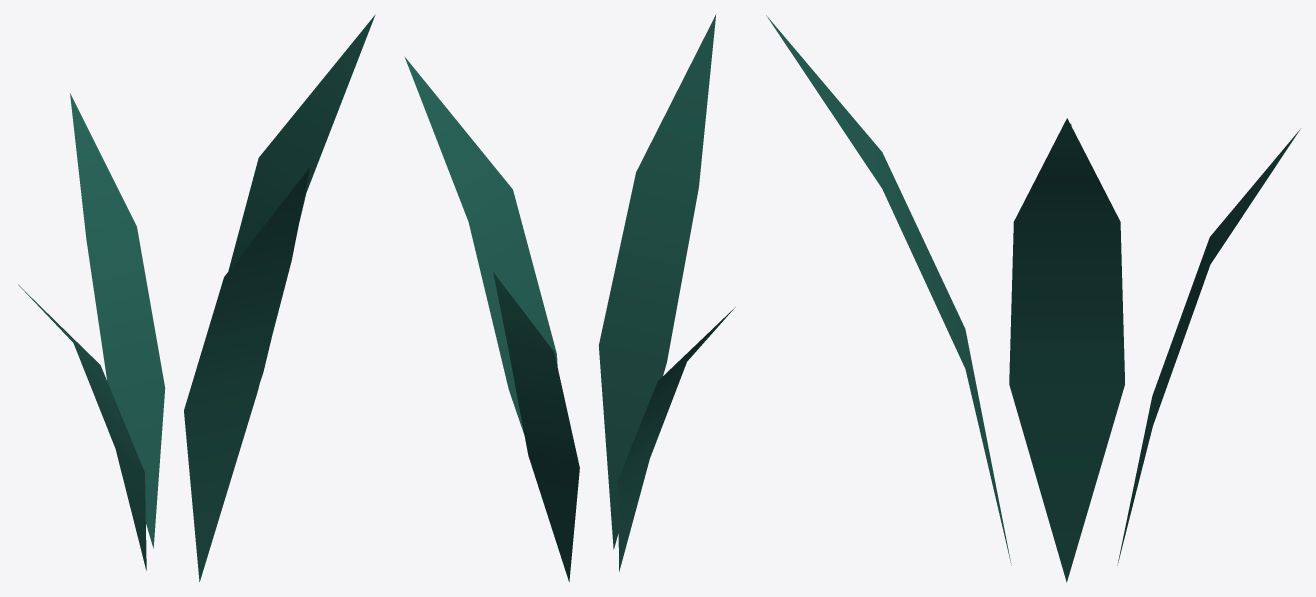
File: Grass.fbx
3 views of the same model, side by side, from view 1: azimuth 30°, elevation 25°; view 2: azimuth 150°, elevation 25°; view 3: azimuth 270°, elevation 25° (orthographic). The views are drawn at different scales.
Visible parts, largest first — view 1: Grass_01; view 2: Grass_01; view 3: Grass_01.
Part boxes in pixels (x1,y1,x2,y2): Grass_01: [18, 14, 375, 581]; Grass_01: [404, 14, 735, 581]; Grass_01: [766, 15, 1300, 582].
Size of the model in its own units: 0.444 by 0.5929 by 0.5137.
